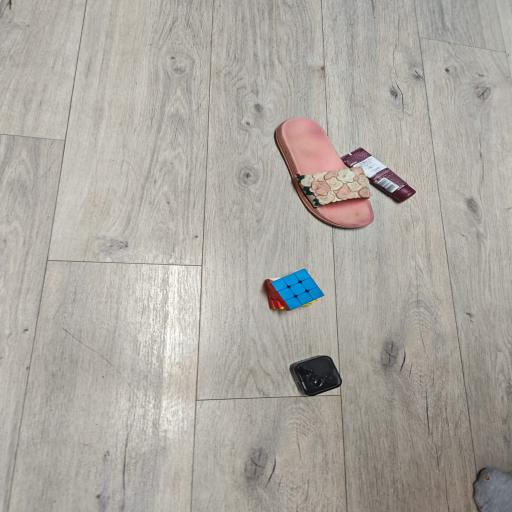Hand Cream: (339, 145, 419, 203)
Rubiks Cube: (264, 269, 324, 314)
